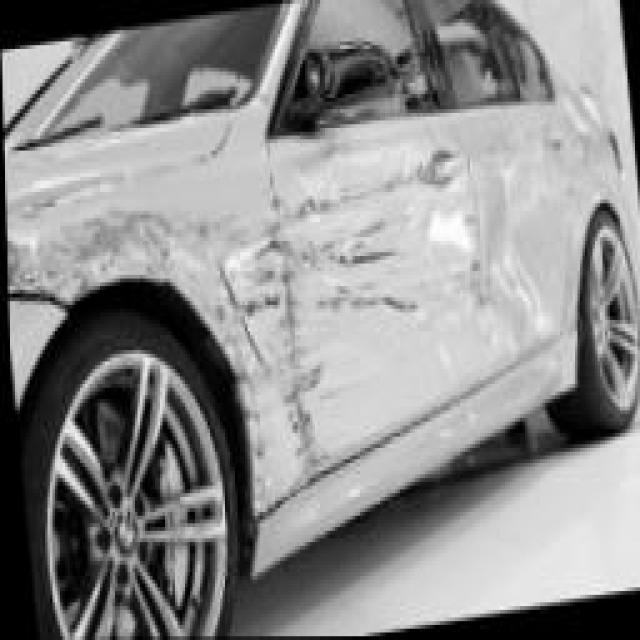Door: (268, 105, 588, 466)
Fender: (5, 158, 277, 368)
